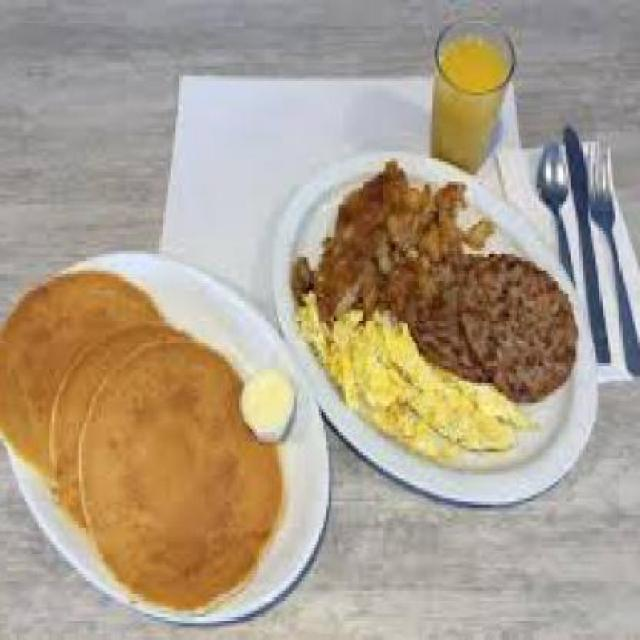omelette: (306, 281, 539, 465)
pancakes: (2, 264, 284, 610)
